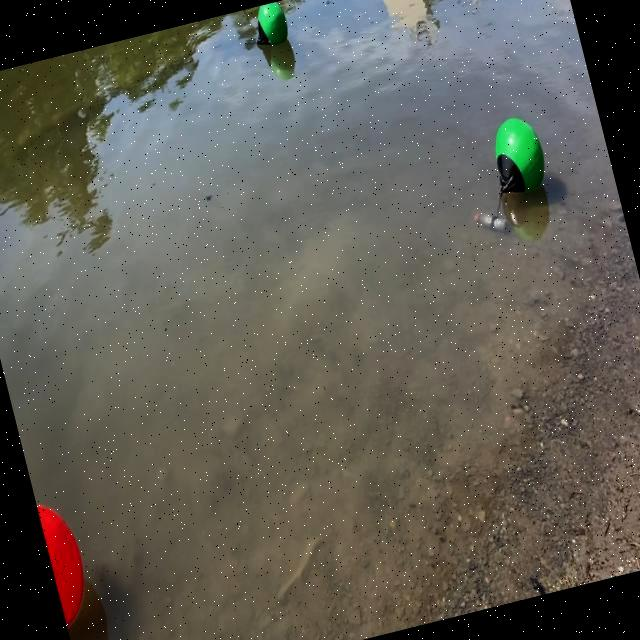buoy: (35, 486, 103, 640), (484, 110, 554, 203), (245, 0, 293, 51)
